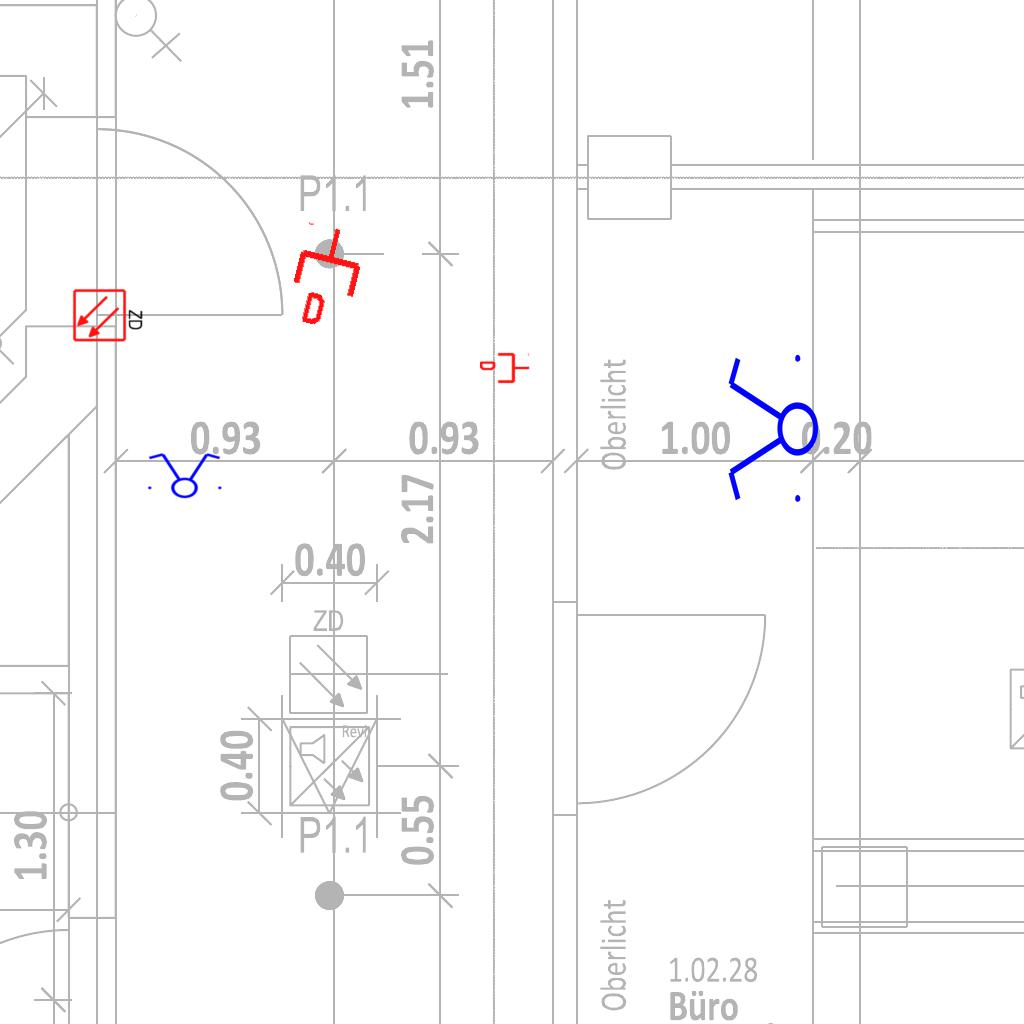Datenanschluss_einfach: (280, 219, 373, 333), (480, 351, 530, 385)
Serienschalter: (724, 346, 820, 514), (142, 451, 226, 499)
ZD_Melder_in_Zwischendecke_mit_Revisionsoeffnung_mind_40_x_40_cm: (72, 286, 146, 343)
